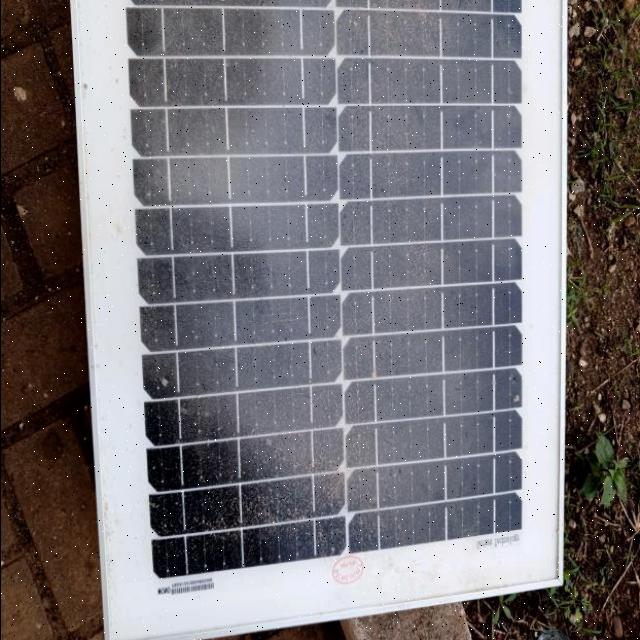Anomaly Solar Panel: (103, 0, 557, 585)
Surface Contaminant: (122, 0, 543, 556)
